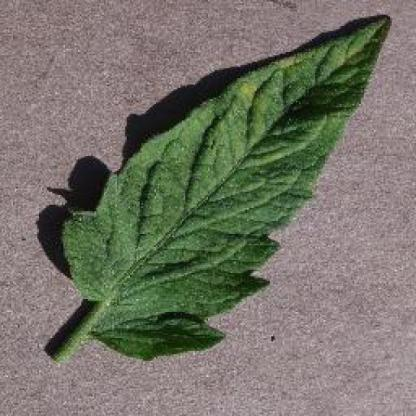Tomato_Leaf_Mold: (147, 17, 394, 278)
